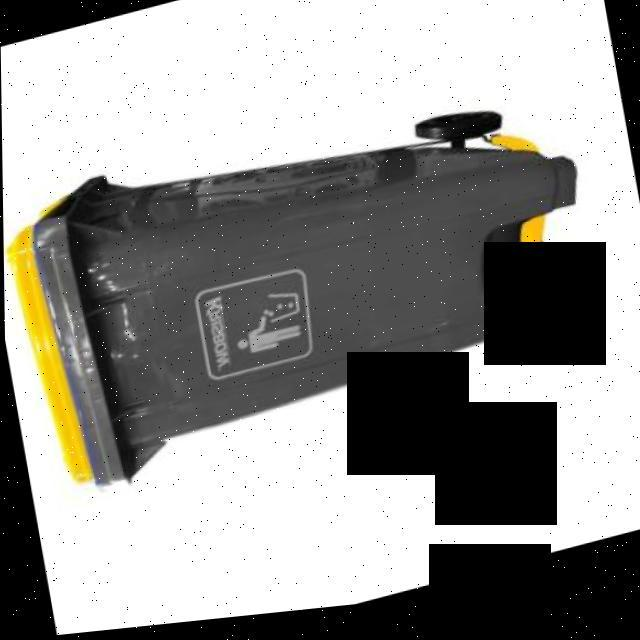bin: (1, 15, 628, 565)
